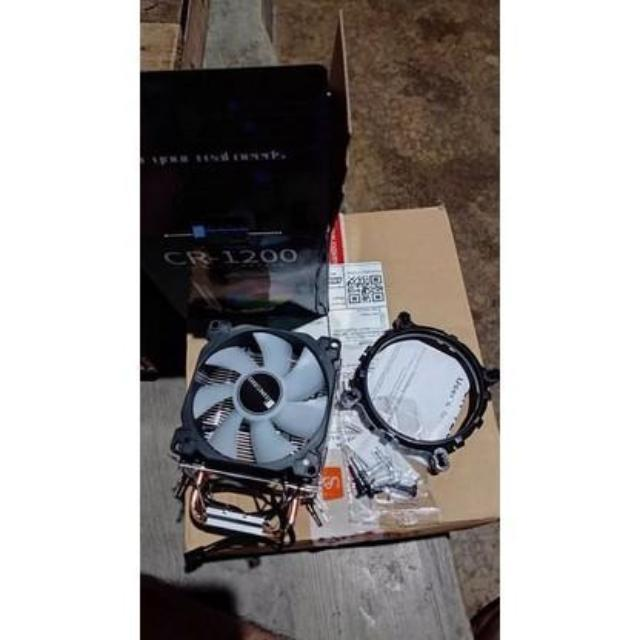CPU_Fan: (172, 318, 340, 538)
